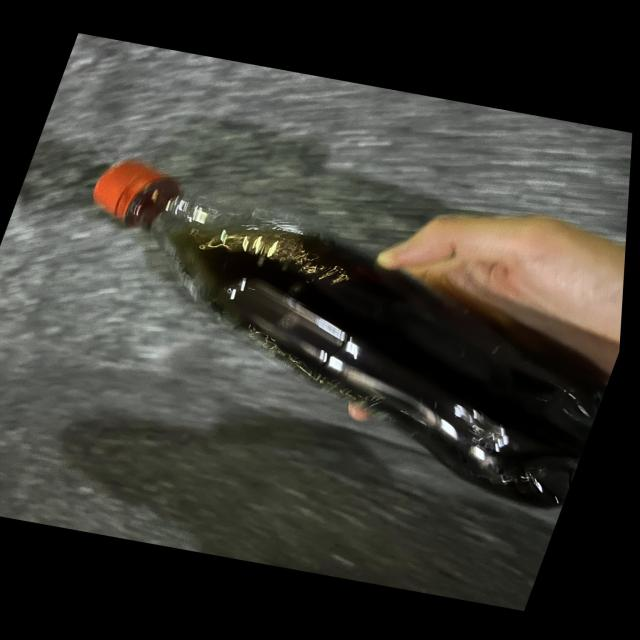medium: (94, 161, 605, 508)
